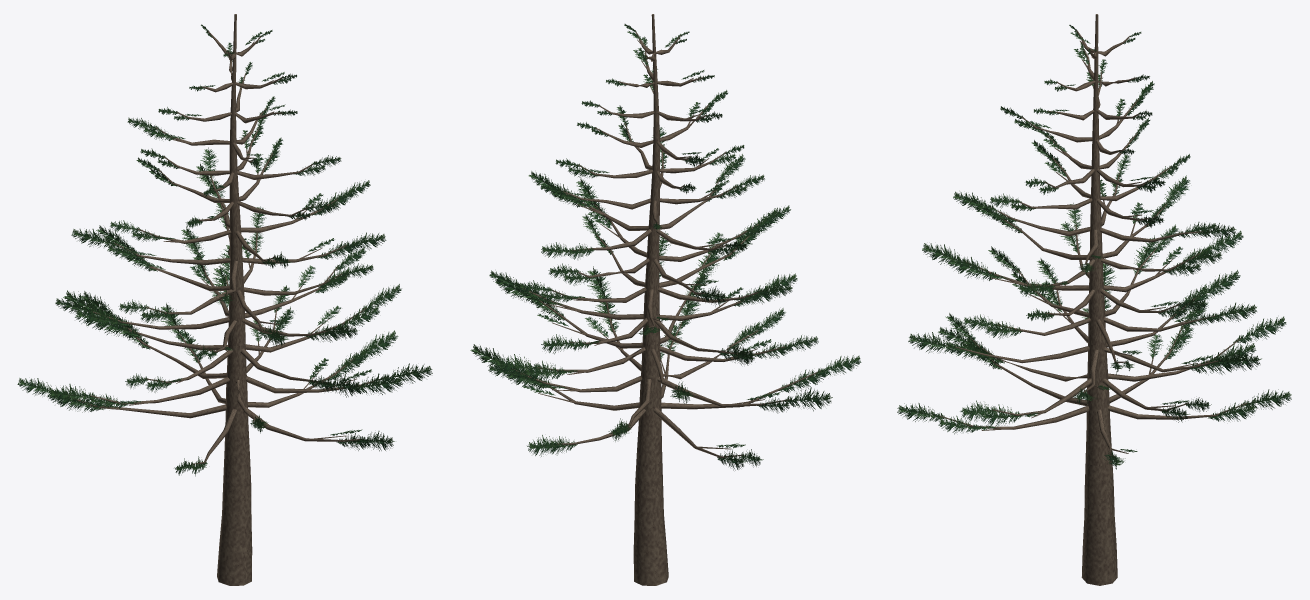
File: ProjectZ_PINE10_Conifer_Winter_LOD1.glb
3 views of the same model, side by side, from view 1: azimuth 30°, elevation 25°; view 2: azimuth 150°, elevation 25°; view 3: azimuth 270°, elevation 25° (orthographic).
Visible parts, largest first — view 1: Trunk_Main_10m_Bark, NeedleClusters_00_AlphaMask, NeedleClusters_02_AlphaMask, NeedleClusters_01_AlphaMask, NeedleClusters_03_AlphaMask, NeedleClusters_04_AlphaMask, Branches_00_Z3.05m_Bark, Branches_01_Z3.57m_Bark, NeedleClusters_05_AlphaMask, NeedleClusters_06_AlphaMask, Branches_02_Z4.09m_Bark, Branches_03_Z4.62m_Bark (+9 smaller); view 2: Trunk_Main_10m_Bark, NeedleClusters_01_AlphaMask, NeedleClusters_02_AlphaMask, NeedleClusters_00_AlphaMask, NeedleClusters_04_AlphaMask, NeedleClusters_03_AlphaMask, Branches_00_Z3.05m_Bark, NeedleClusters_05_AlphaMask, Branches_01_Z3.57m_Bark, Branches_02_Z4.09m_Bark, NeedleClusters_06_AlphaMask, Branches_04_Z5.14m_Bark (+9 smaller); view 3: Trunk_Main_10m_Bark, NeedleClusters_00_AlphaMask, NeedleClusters_02_AlphaMask, NeedleClusters_01_AlphaMask, NeedleClusters_04_AlphaMask, NeedleClusters_03_AlphaMask, Branches_00_Z3.05m_Bark, NeedleClusters_05_AlphaMask, Branches_02_Z4.09m_Bark, Branches_01_Z3.57m_Bark, NeedleClusters_06_AlphaMask, Branches_03_Z4.62m_Bark (+9 smaller).
Boxes of the visible parts, <box> form: Trunk_Main_10m_Bark: <box>217,14,252,585</box>; NeedleClusters_00_AlphaMask: <box>17,303,398,476</box>; NeedleClusters_02_AlphaMask: <box>63,245,401,397</box>; NeedleClusters_01_AlphaMask: <box>47,285,432,433</box>; NeedleClusters_03_AlphaMask: <box>55,226,366,361</box>; NeedleClusters_04_AlphaMask: <box>96,206,373,346</box>; Branches_00_Z3.05m_Bark: <box>57,334,364,464</box>; Branches_01_Z3.57m_Bark: <box>90,308,387,422</box>; NeedleClusters_05_AlphaMask: <box>71,179,386,302</box>; NeedleClusters_06_AlphaMask: <box>110,147,370,268</box>; Branches_02_Z4.09m_Bark: <box>118,275,366,383</box>; Branches_03_Z4.62m_Bark: <box>93,256,337,352</box>; Trunk_Main_10m_Bark: <box>633,14,668,585</box>; NeedleClusters_01_AlphaMask: <box>488,266,832,441</box>; NeedleClusters_02_AlphaMask: <box>493,249,818,403</box>; NeedleClusters_00_AlphaMask: <box>470,294,861,470</box>; NeedleClusters_04_AlphaMask: <box>518,208,792,340</box>; NeedleClusters_03_AlphaMask: <box>489,231,797,365</box>; Branches_00_Z3.05m_Bark: <box>513,322,820,458</box>; NeedleClusters_05_AlphaMask: <box>548,177,790,306</box>; Branches_01_Z3.57m_Bark: <box>520,302,790,428</box>; Branches_02_Z4.09m_Bark: <box>537,278,785,389</box>; NeedleClusters_06_AlphaMask: <box>528,154,748,259</box>; Branches_04_Z5.14m_Bark: <box>549,234,762,327</box>; Trunk_Main_10m_Bark: <box>1081,14,1117,585</box>; NeedleClusters_00_AlphaMask: <box>897,299,1291,469</box>; NeedleClusters_02_AlphaMask: <box>908,258,1261,404</box>; NeedleClusters_01_AlphaMask: <box>938,258,1286,427</box>; NeedleClusters_04_AlphaMask: <box>922,203,1243,321</box>; NeedleClusters_03_AlphaMask: <box>963,224,1256,374</box>; Branches_00_Z3.05m_Bark: <box>939,325,1247,456</box>; NeedleClusters_05_AlphaMask: <box>968,175,1222,296</box>; Branches_02_Z4.09m_Bark: <box>955,280,1220,392</box>; Branches_01_Z3.57m_Bark: <box>975,338,1241,418</box>; NeedleClusters_06_AlphaMask: <box>953,154,1236,274</box>; Branches_03_Z4.62m_Bark: <box>997,248,1215,363</box>.
Size of the model in its own units: 6.71 by 10.01 by 6.48.
Materials: 2 (2 with a texture image).
